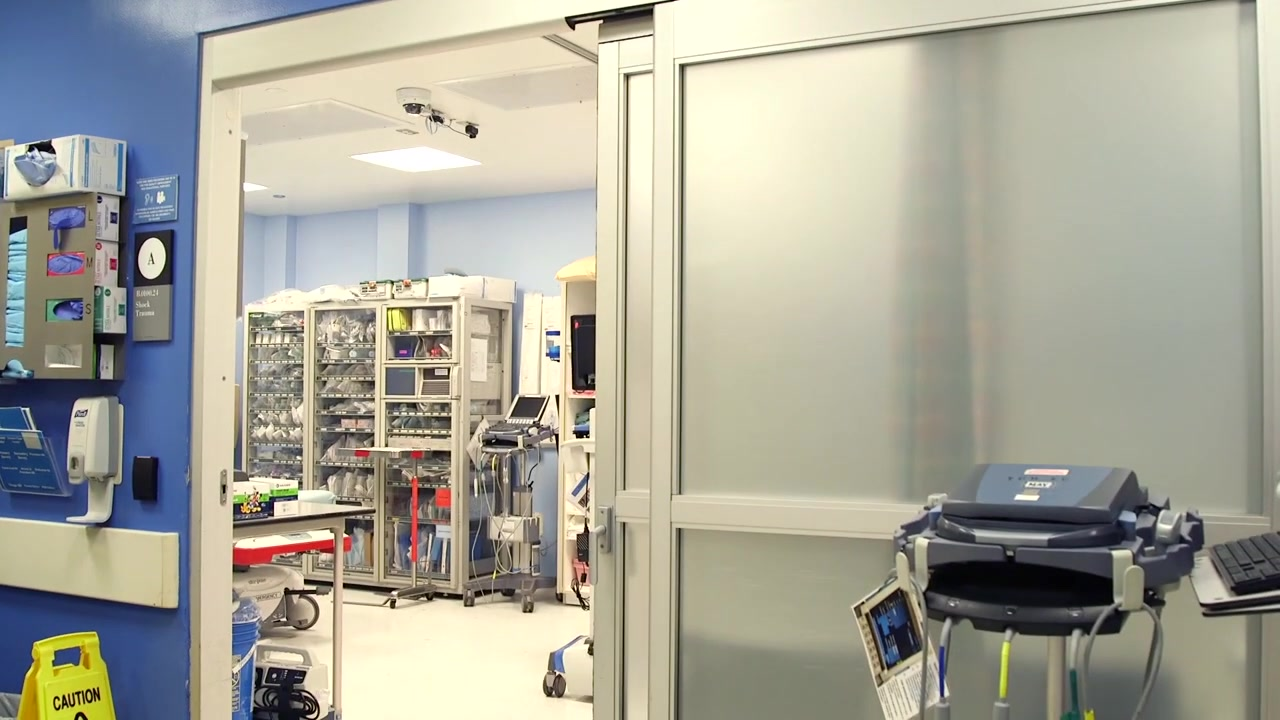cabinet: (241, 298, 515, 592)
computer: (508, 393, 546, 425)
dispenser: (1, 198, 122, 380), (1, 132, 124, 203), (63, 396, 122, 525)
door_handle: (586, 523, 604, 586)
keyboard: (1208, 529, 1280, 593)
table: (242, 502, 381, 720)
waste_bin: (231, 590, 261, 720)
